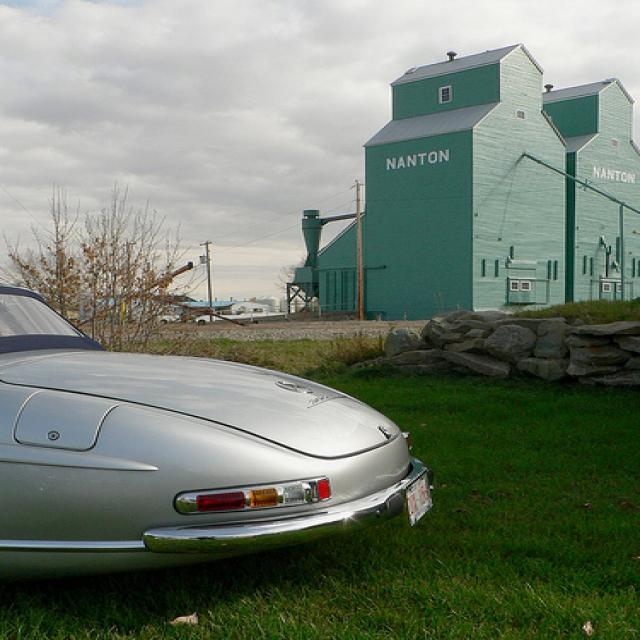Car: (0, 270, 440, 580)
